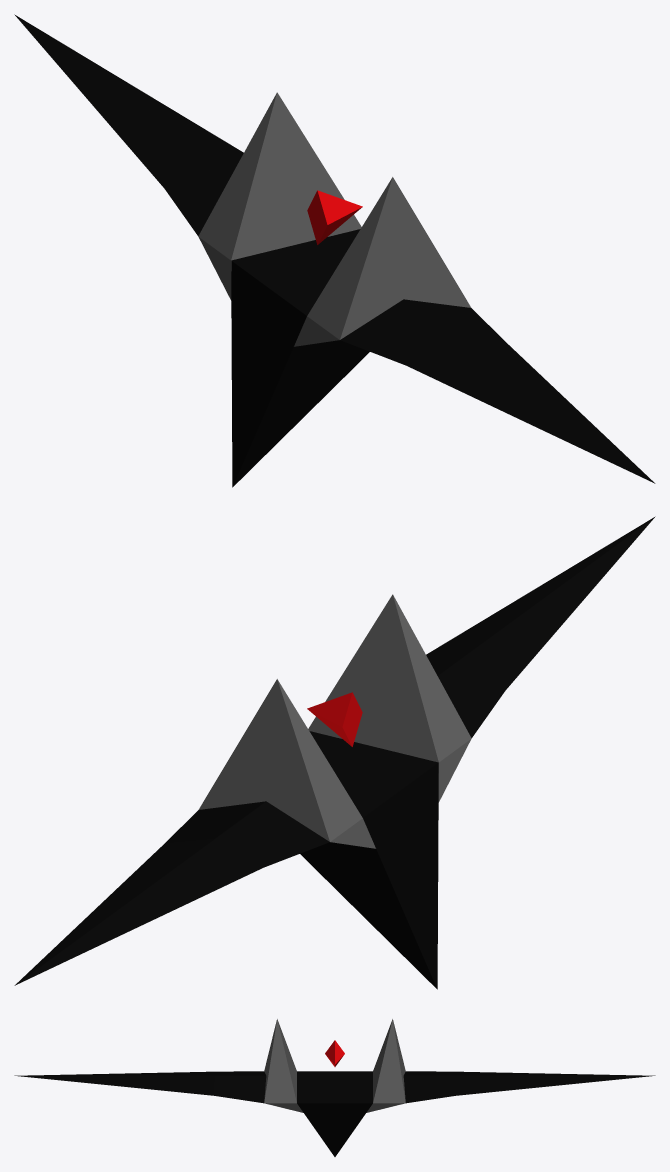
The model's file is zero gravity.fbx.
The picture shows the model from 3 angles, top to bottom: view 1: azimuth 30°, elevation 25°; view 2: azimuth 150°, elevation 25°; view 3: azimuth 270°, elevation 25°; orthographic projection. The views are drawn at different scales.
Parts seen in each view (by area): view 1: Cubo, Cono.001, Cono.003, Cono, Cono.002, Cañon; view 2: Cubo, Cono.002, Cono, Cono.003, Cono.001, Cañon; view 3: Cubo, Cono.001, Cono.002, Cono, Cono.003, Cañon.
Boxes of the visible parts, box(x1,y1,x2,y2) form: Cubo: box(231, 229, 369, 487); Cono.001: box(340, 299, 655, 483); Cono.003: box(198, 92, 361, 300); Cono: box(294, 177, 471, 346); Cono.002: box(14, 14, 243, 235); Cañon: box(307, 190, 362, 244); Cubo: box(300, 731, 438, 989); Cono.002: box(14, 801, 329, 985); Cono: box(308, 594, 471, 802); Cono.003: box(198, 679, 375, 848); Cono.001: box(426, 516, 655, 737); Cañon: box(307, 692, 362, 746); Cubo: box(297, 1071, 372, 1156); Cono.001: box(14, 1071, 266, 1103); Cono.002: box(403, 1071, 655, 1103); Cono: box(264, 1019, 303, 1112); Cono.003: box(366, 1019, 405, 1112); Cañon: box(325, 1040, 344, 1066).
Size of the model in its own units: 38.38 by 71.52 by 253.
